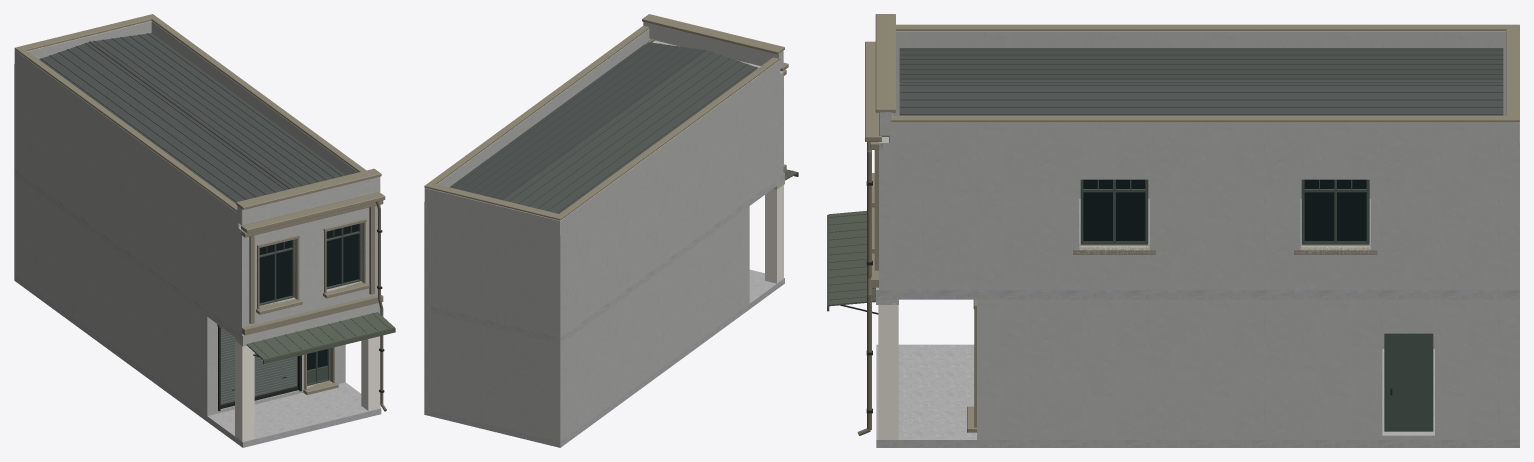
File: five-foot-way-shophouse.glb
The picture shows the model from 3 angles, left to right: view 1: azimuth 30°, elevation 25°; view 2: azimuth 150°, elevation 25°; view 3: azimuth 270°, elevation 25°; orthographic projection. The views are drawn at different scales.
Visible parts, largest first — view 1: Shophouse_near_plaster, Shophouse_near_metal, Shophouse_near_matte, Shophouse_near_concrete, Shophouse_near_glazing, Arcade_column_left, Arcade_column_right; view 2: Shophouse_near_plaster, Shophouse_near_metal, Shophouse_near_matte, Shophouse_near_concrete, Arcade_column_left; view 3: Shophouse_near_plaster, Shophouse_near_metal, Shophouse_near_matte, Shophouse_near_concrete, Shophouse_near_glazing, Arcade_column_right.
Boxes of the visible parts, bbox=[...] form: Shophouse_near_plaster: bbox=[14, 21, 380, 415]; Shophouse_near_metal: bbox=[39, 33, 395, 410]; Shophouse_near_matte: bbox=[14, 14, 386, 411]; Shophouse_near_concrete: bbox=[14, 169, 381, 447]; Shophouse_near_glazing: bbox=[259, 224, 358, 370]; Arcade_column_left: bbox=[235, 335, 254, 441]; Arcade_column_right: bbox=[361, 313, 380, 410]; Shophouse_near_plaster: bbox=[424, 22, 784, 442]; Shophouse_near_metal: bbox=[449, 42, 798, 213]; Shophouse_near_matte: bbox=[424, 14, 788, 220]; Shophouse_near_concrete: bbox=[424, 173, 784, 447]; Arcade_column_left: bbox=[765, 185, 783, 283]; Shophouse_near_plaster: bbox=[876, 31, 1519, 439]; Shophouse_near_metal: bbox=[827, 48, 1503, 413]; Shophouse_near_matte: bbox=[857, 14, 1519, 435]; Shophouse_near_concrete: bbox=[876, 199, 1519, 447]; Shophouse_near_glazing: bbox=[1083, 179, 1366, 241]; Arcade_column_right: bbox=[878, 303, 898, 439].
Bounding box in the file's own units: 5.6 × 9.3 × 17.23.
6 materials, 2 textured.
